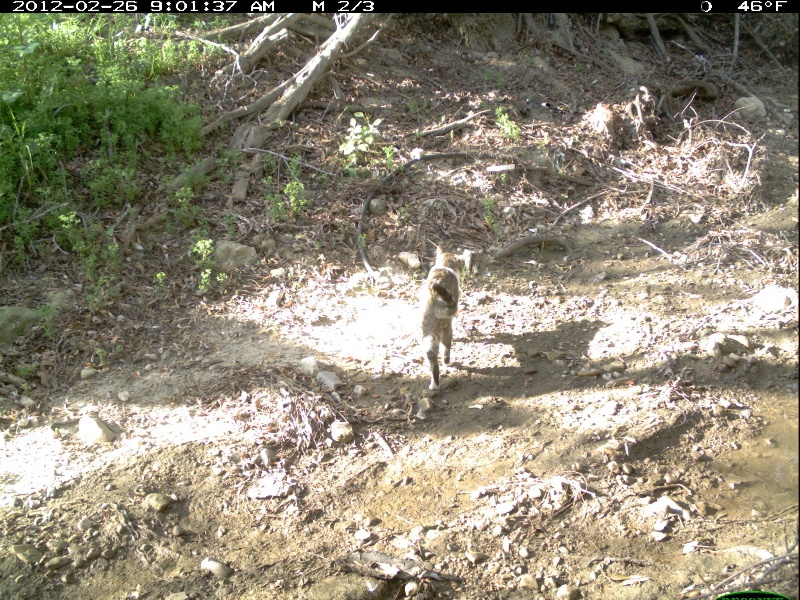cat: (408, 244, 467, 404)
